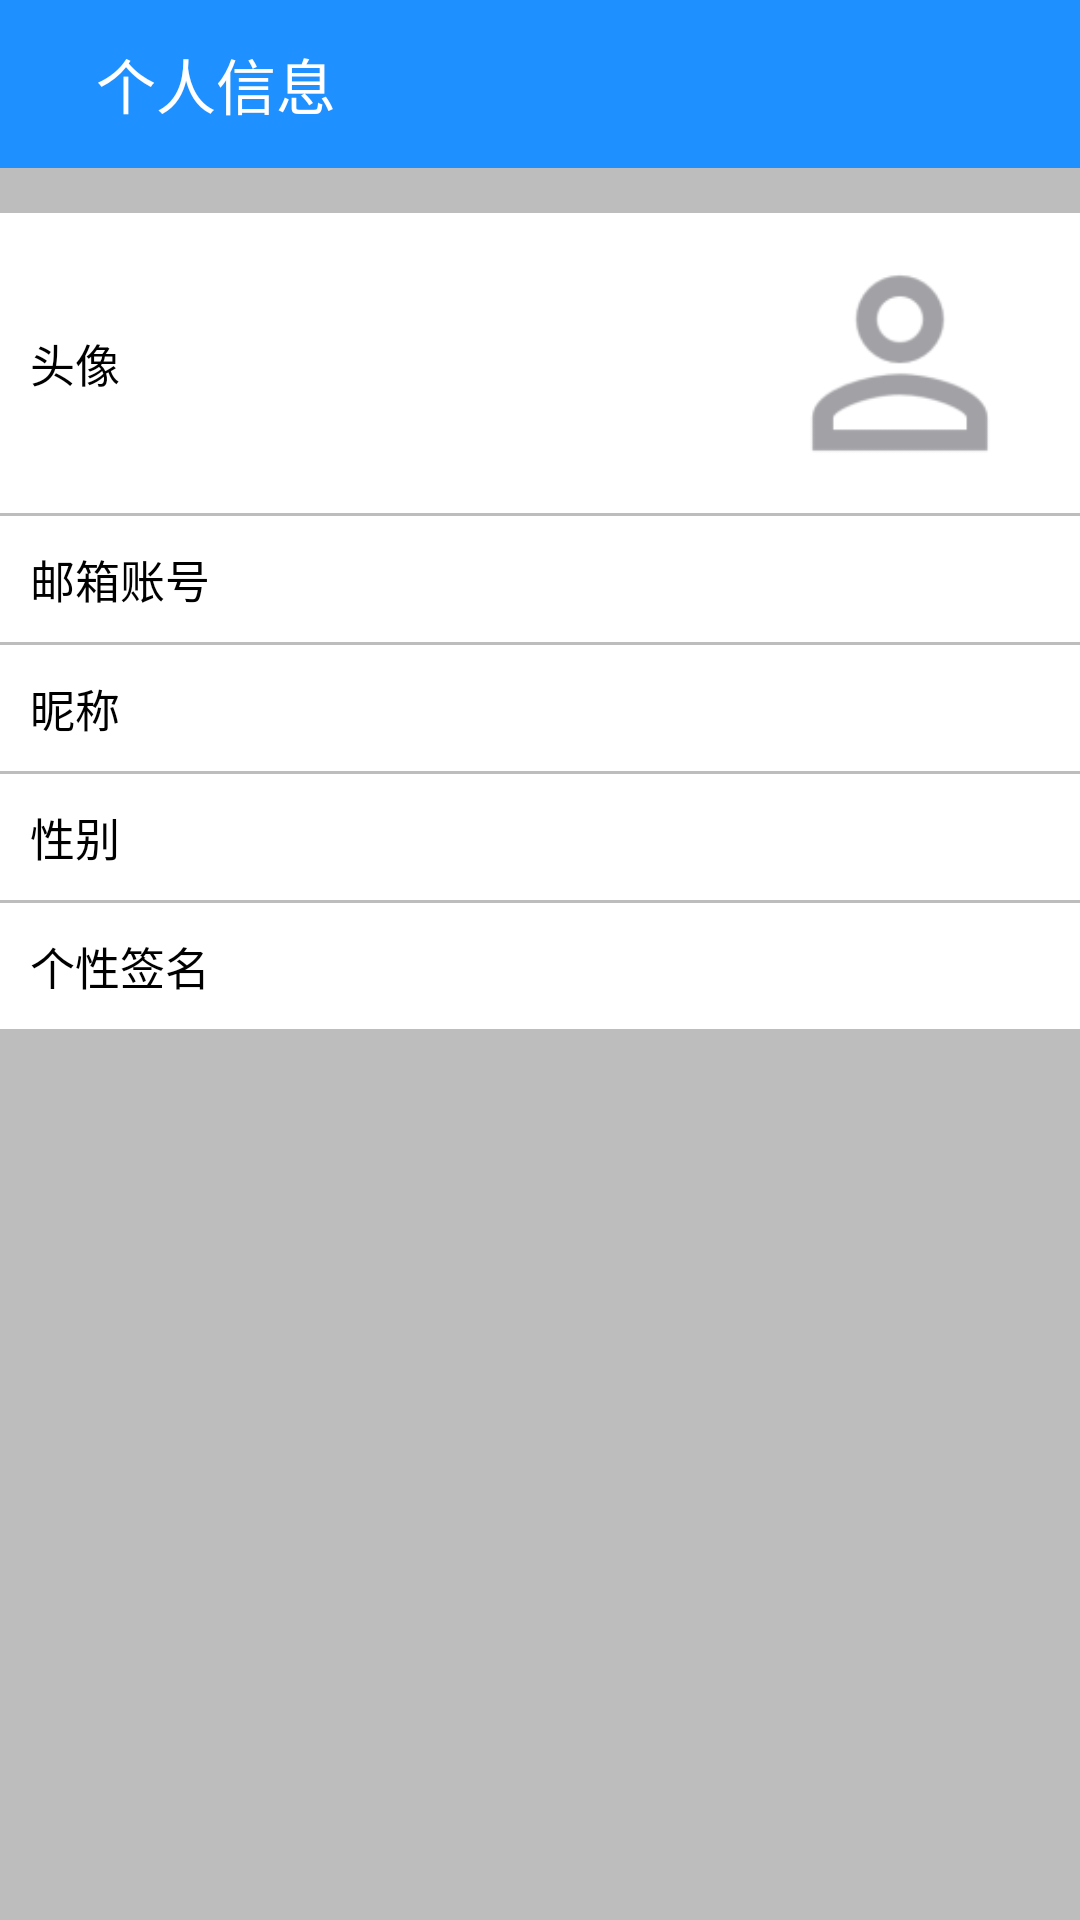

Locate icon controls on the screen. Image size 1080 × 1920, boxes as (x1, y1, x2, y2).
user: (812, 275, 988, 451)
